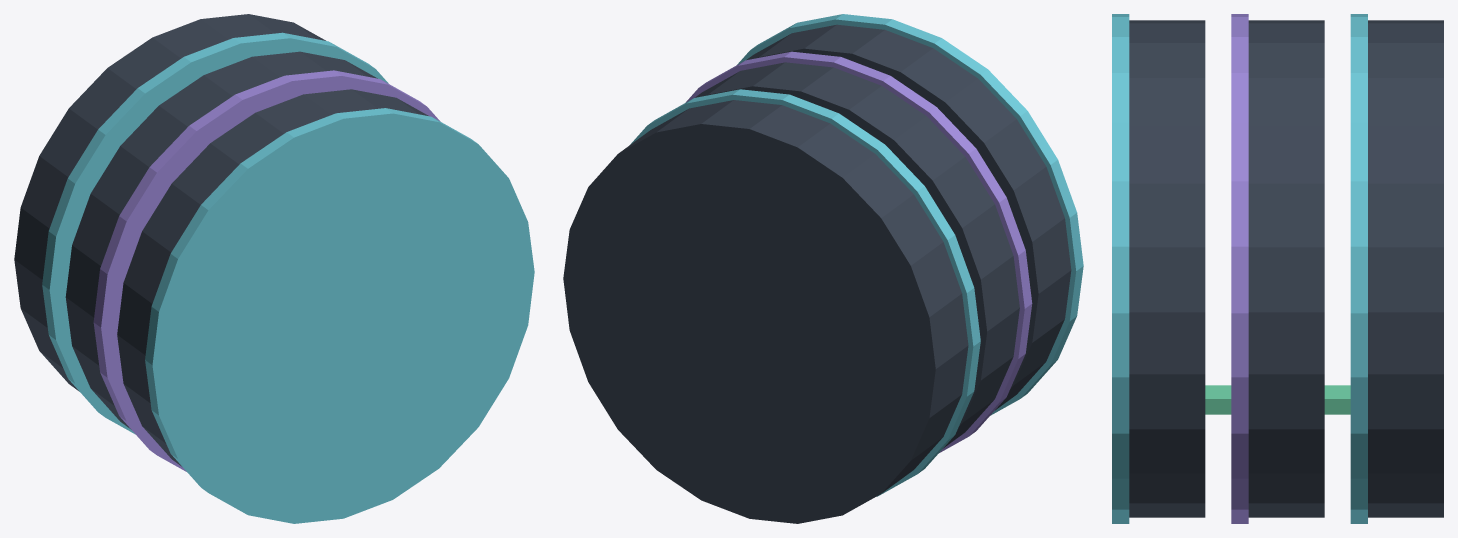
File: database.glb
3 views of the same model, side by side, from view 1: azimuth 30°, elevation 25°; view 2: azimuth 150°, elevation 25°; view 3: azimuth 270°, elevation 25° (orthographic). The views are drawn at different scales.
Visible parts, largest first — view 1: ring2, layer0, layer2, layer1, ring1, ring0; view 2: layer0, layer1, layer2, ring0, ring1, ring2; view 3: layer1, layer2, layer0, ring0, ring1, ring2, status.
Boxes of the visible parts, x1,y1,x2,y2 form: ring2: (145, 108, 534, 523); layer0: (14, 14, 325, 391); layer2: (117, 89, 428, 466); layer1: (65, 51, 377, 429); ring1: (93, 70, 440, 471); ring0: (42, 32, 388, 434); layer0: (563, 100, 968, 523); layer1: (695, 62, 1019, 448); layer2: (746, 24, 1071, 410); ring0: (630, 89, 980, 496); ring1: (685, 51, 1032, 452); ring2: (737, 14, 1083, 415); layer1: (1248, 20, 1324, 517); layer2: (1129, 20, 1205, 517); layer0: (1368, 20, 1443, 517); ring0: (1350, 14, 1367, 523); ring1: (1231, 14, 1248, 523); ring2: (1112, 14, 1129, 523); status: (1205, 385, 1350, 414).
Size of the model in its own units: 2.36 by 2.36 by 1.53.
